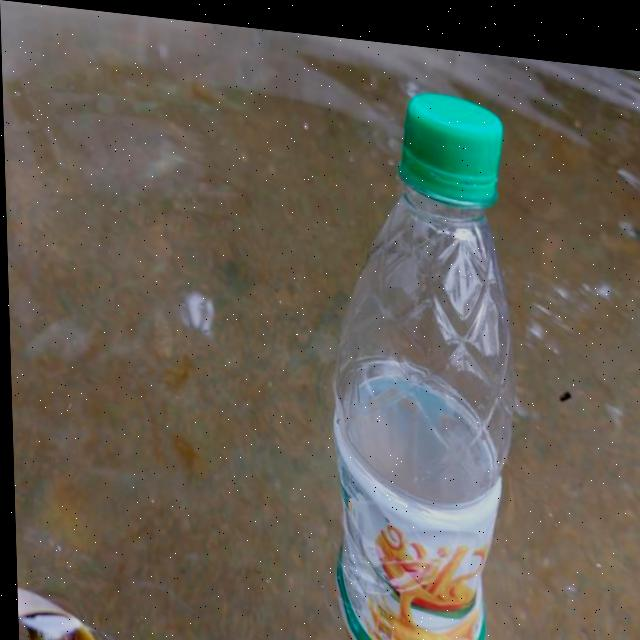leaf: (14, 579, 124, 640)
waterbottle: (292, 59, 542, 640)
